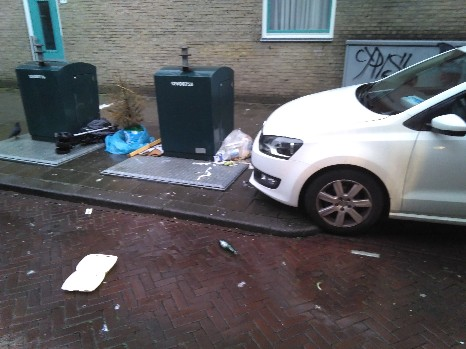Container: (155, 57, 230, 167), (20, 54, 89, 133)
GFT: (113, 74, 147, 133)
Plastic: (256, 44, 466, 231), (99, 127, 151, 160), (231, 125, 257, 165)
